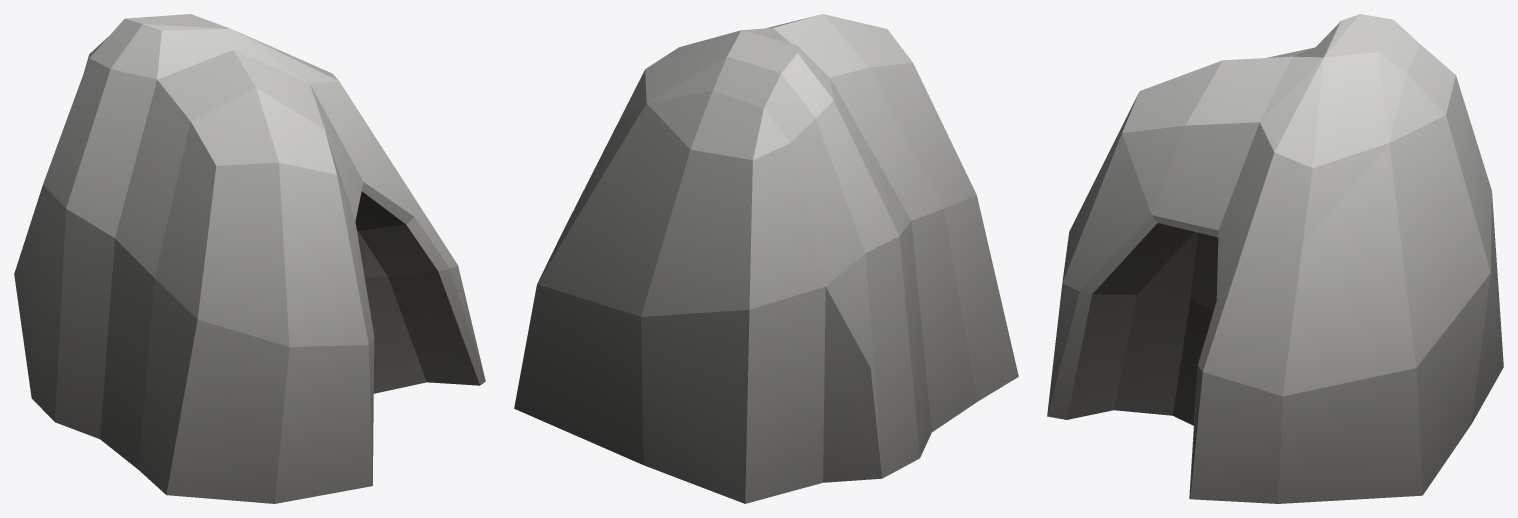
The model's file is Rock_Cave_Entry_A.fbx.
3 renders of one model, left to right at view 1: azimuth 30°, elevation 25°; view 2: azimuth 150°, elevation 25°; view 3: azimuth 270°, elevation 25°, orthographic. The views are drawn at different scales.
Parts seen in each view (by area): view 1: Rock_Cave_Entry_A; view 2: Rock_Cave_Entry_A; view 3: Rock_Cave_Entry_A.
Boxes of the visible parts, box(x1,y1,x2,y2) form: Rock_Cave_Entry_A: box(14, 14, 485, 503); Rock_Cave_Entry_A: box(514, 14, 1018, 503); Rock_Cave_Entry_A: box(1047, 14, 1503, 503).
Size of the model in its own units: 537 by 525 by 590.
